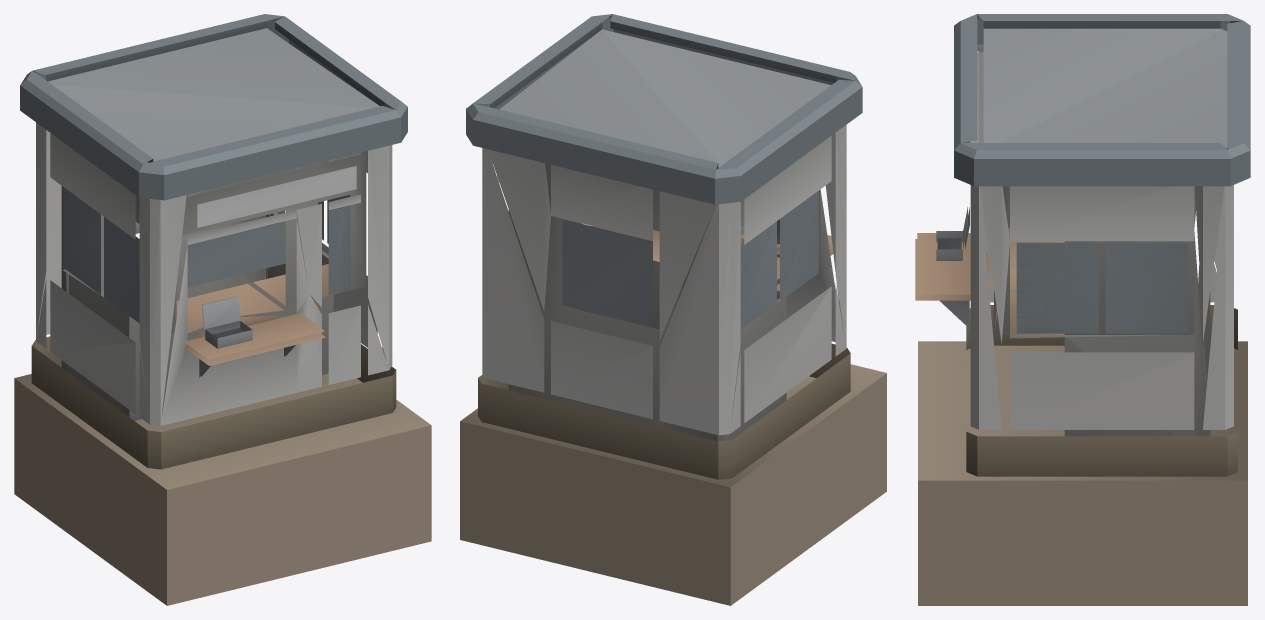
Rendered from booth.lod.glb.
3 views of the same model, side by side, from view 1: azimuth 30°, elevation 25°; view 2: azimuth 150°, elevation 25°; view 3: azimuth 270°, elevation 25° (orthographic). The views are drawn at different scales.
Parts seen in each view (by area): view 1: booth.001; view 2: booth.001; view 3: booth.001.
Part boxes in pixels (x1,y1,x2,y2): booth.001: [14, 14, 431, 605]; booth.001: [460, 14, 886, 605]; booth.001: [915, 14, 1250, 605].
Bounding box in the file's own units: 2.5 × 3.74 × 2.5.
